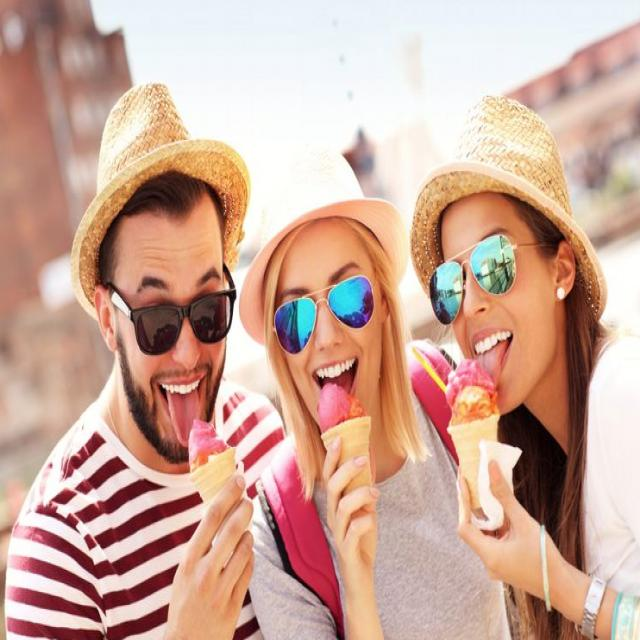Glasses: (89, 262, 241, 362), (427, 228, 560, 328), (266, 270, 378, 362)
